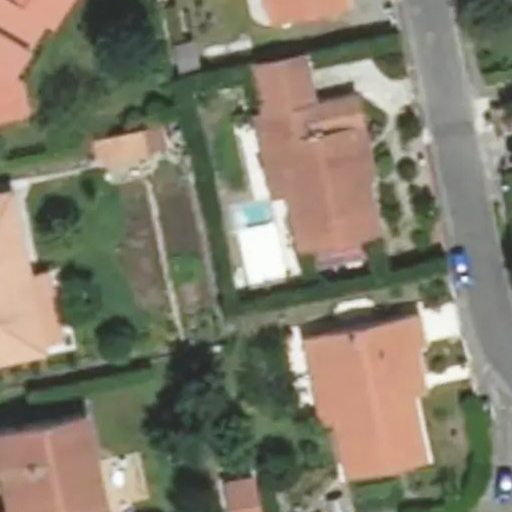pool: (227, 204, 284, 279)
